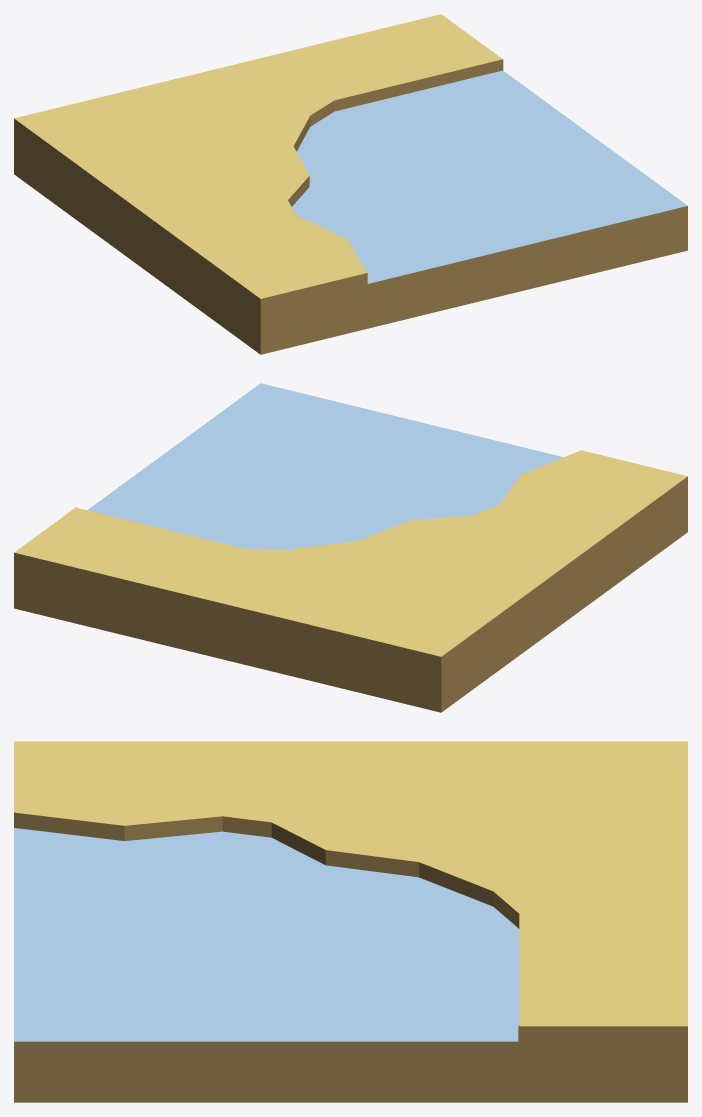
Rendered from Terrain_Tile_Sand_Water_Bank_Corner_02.fbx.
3 views of the same model, one above another, from view 1: azimuth 30°, elevation 25°; view 2: azimuth 150°, elevation 25°; view 3: azimuth 270°, elevation 25° (orthographic). The views are drawn at different scales.
Parts seen in each view (by area): view 1: Terrain_Tile_Sand_Water_Bank_Corner_02; view 2: Terrain_Tile_Sand_Water_Bank_Corner_02; view 3: Terrain_Tile_Sand_Water_Bank_Corner_02.
Boxes of the visible parts, x1=… form: Terrain_Tile_Sand_Water_Bank_Corner_02: x1=14, y1=14, x2=687, y2=354; Terrain_Tile_Sand_Water_Bank_Corner_02: x1=14, y1=383, x2=687, y2=712; Terrain_Tile_Sand_Water_Bank_Corner_02: x1=14, y1=741, x2=687, y2=1102.
Bounding box in the file's own units: 126 × 15.75 × 126.
